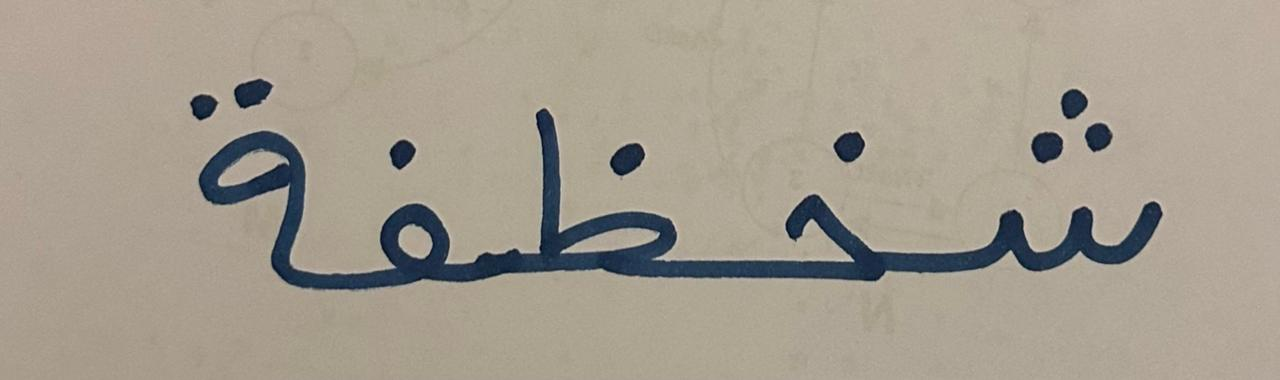feh: (335, 65, 472, 353)
lam: (715, 51, 917, 354)
tah: (923, 25, 1202, 342)
thal: (144, 35, 332, 335)
zain: (475, 40, 712, 345)
